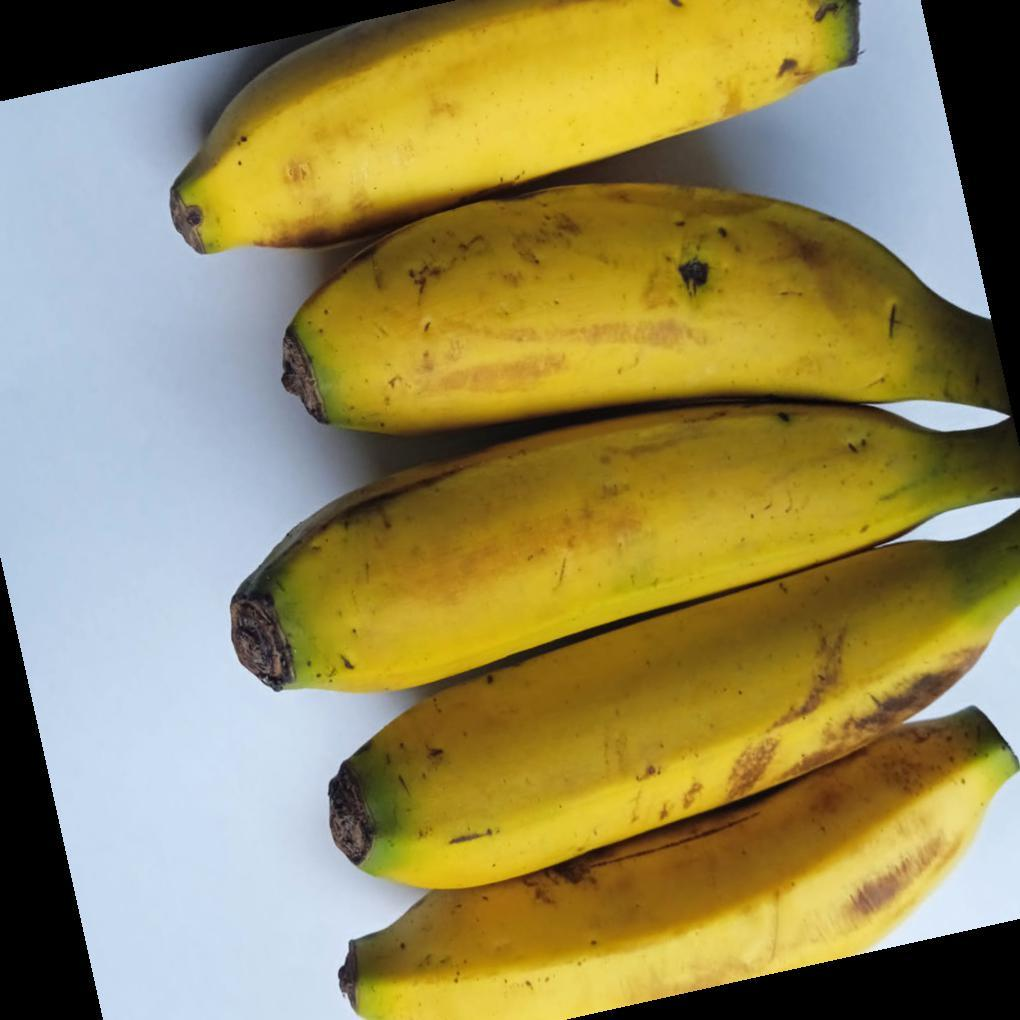Banana Ripe: (348, 470, 986, 893), (232, 357, 962, 716), (276, 121, 960, 486), (269, 695, 1020, 1020), (158, 0, 872, 279)
